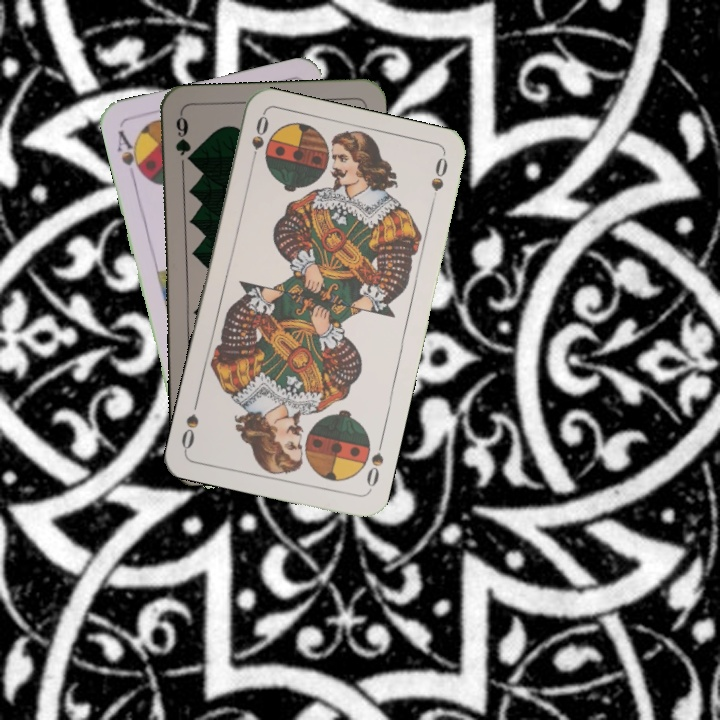G9: (171, 110, 193, 158)
SA: (113, 126, 147, 183)
SO: (247, 111, 272, 170), (362, 436, 386, 494)
